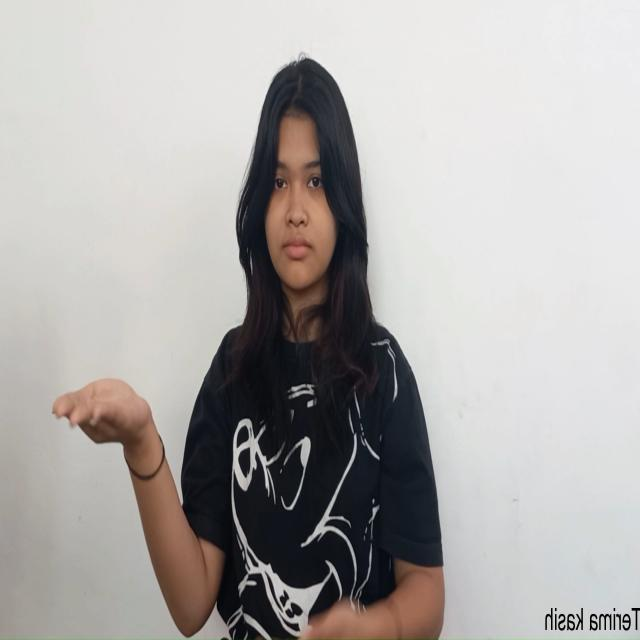Terima kasih -BISINDO-: (46, 372, 156, 459)
